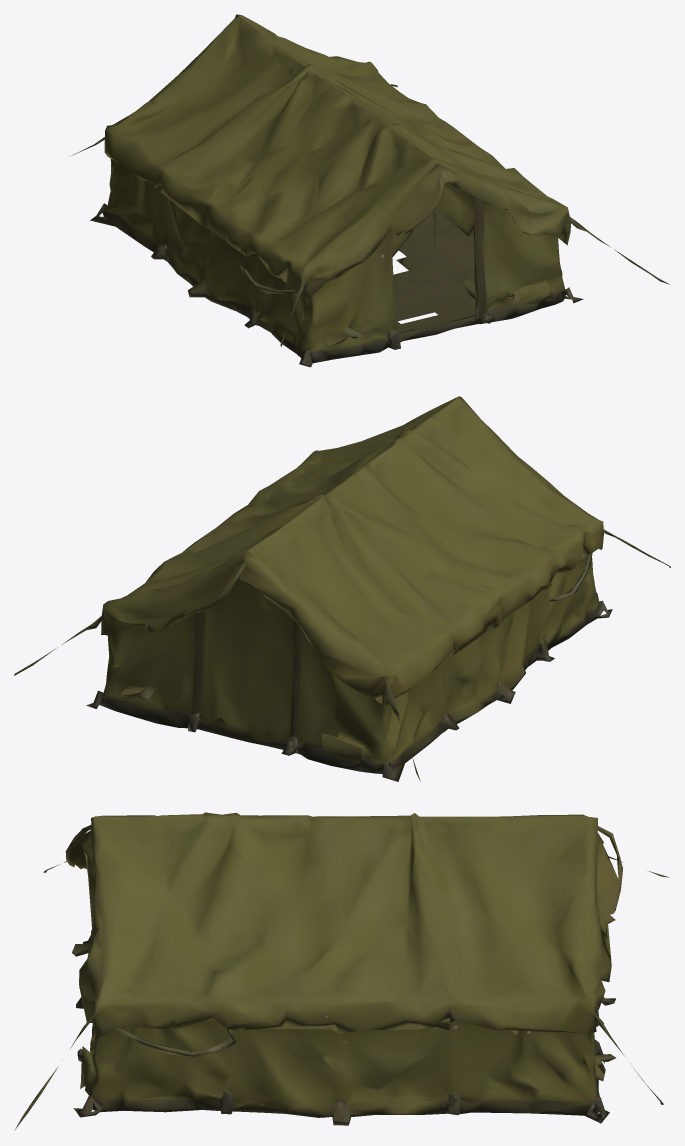
File: tent.glb
The picture shows the model from 3 angles, top to bottom: view 1: azimuth 30°, elevation 25°; view 2: azimuth 150°, elevation 25°; view 3: azimuth 270°, elevation 25°; orthographic projection. The views are drawn at different scales.
Visible parts, largest first — view 1: tripo_node_9a408da8-454e-4400-99cc-bf2c092f1cc0; view 2: tripo_node_9a408da8-454e-4400-99cc-bf2c092f1cc0; view 3: tripo_node_9a408da8-454e-4400-99cc-bf2c092f1cc0.
Part boxes in pixels (bbox=[...]): tripo_node_9a408da8-454e-4400-99cc-bf2c092f1cc0: bbox=[69, 14, 669, 367]; tripo_node_9a408da8-454e-4400-99cc-bf2c092f1cc0: bbox=[14, 396, 670, 781]; tripo_node_9a408da8-454e-4400-99cc-bf2c092f1cc0: bbox=[14, 812, 669, 1130].
Bounding box in the file's own units: 0.8757 × 0.3764 × 1.
1 material, 1 textured.
